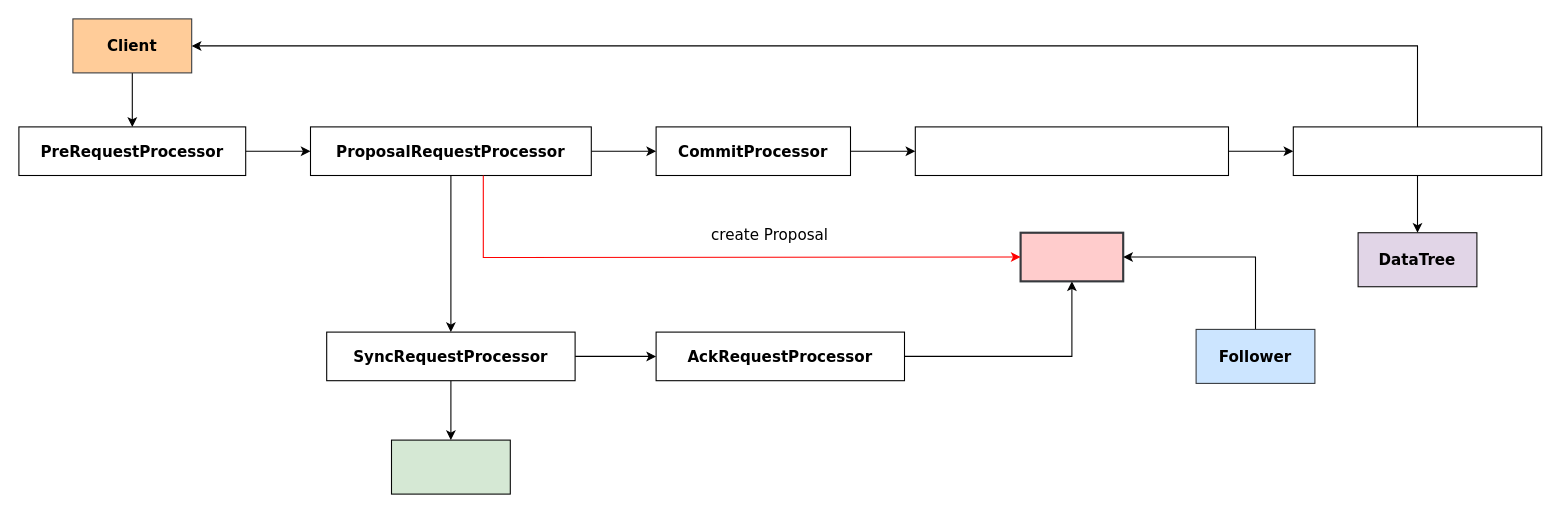
Some shapes in this 1561 by 513 pixel diagram are drawn without their labels. Each missing label, with the centre of its shape:
FinalRequestProcessor: (1417,151)
Log: (450,466)
ToBeAppliedRequestProcessor: (1071,151)
Vote: (1071,256)
